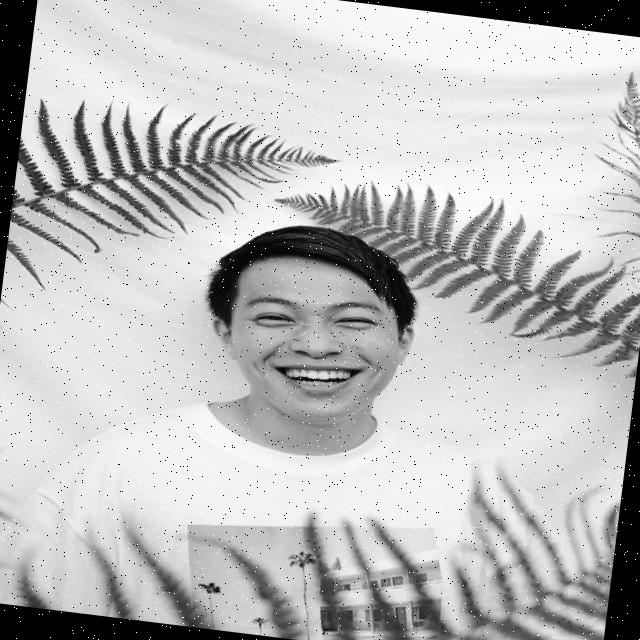Happiness: (220, 252, 405, 430)
